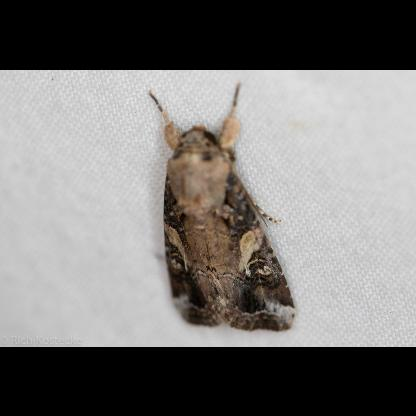Fall Armyworm Moth: (146, 78, 298, 334)
